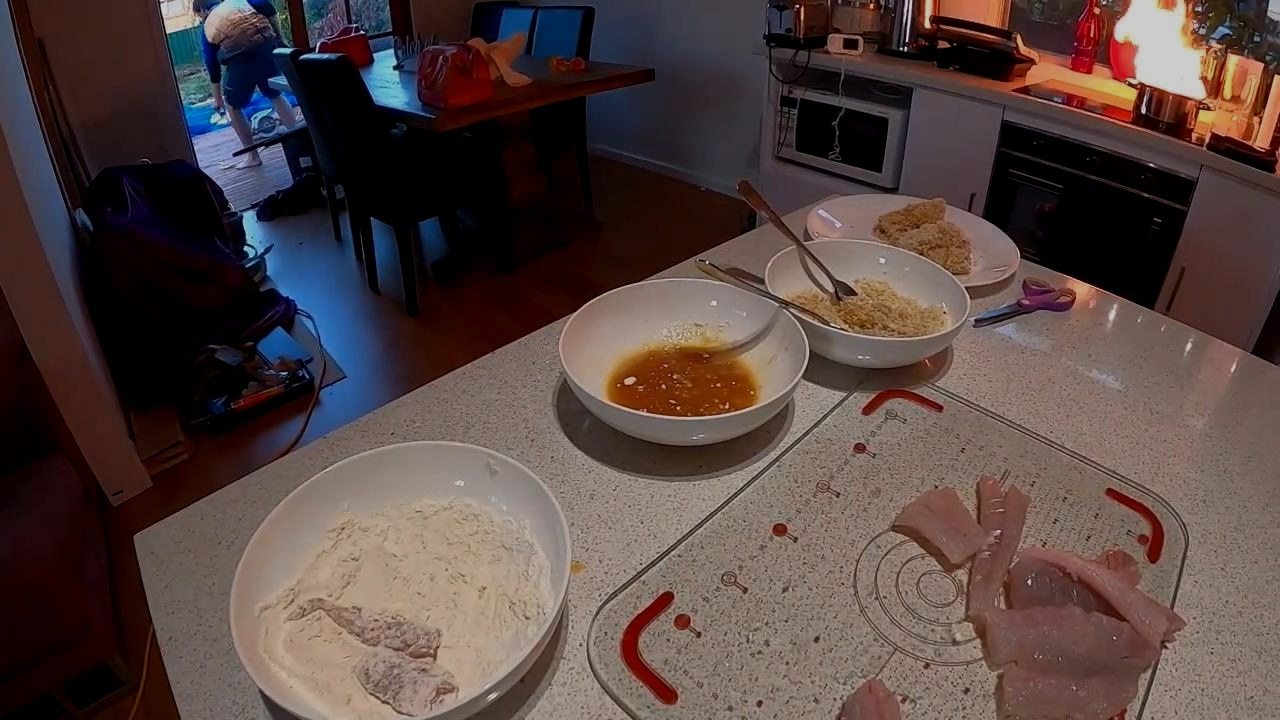fire: (1080, 0, 1236, 165)
